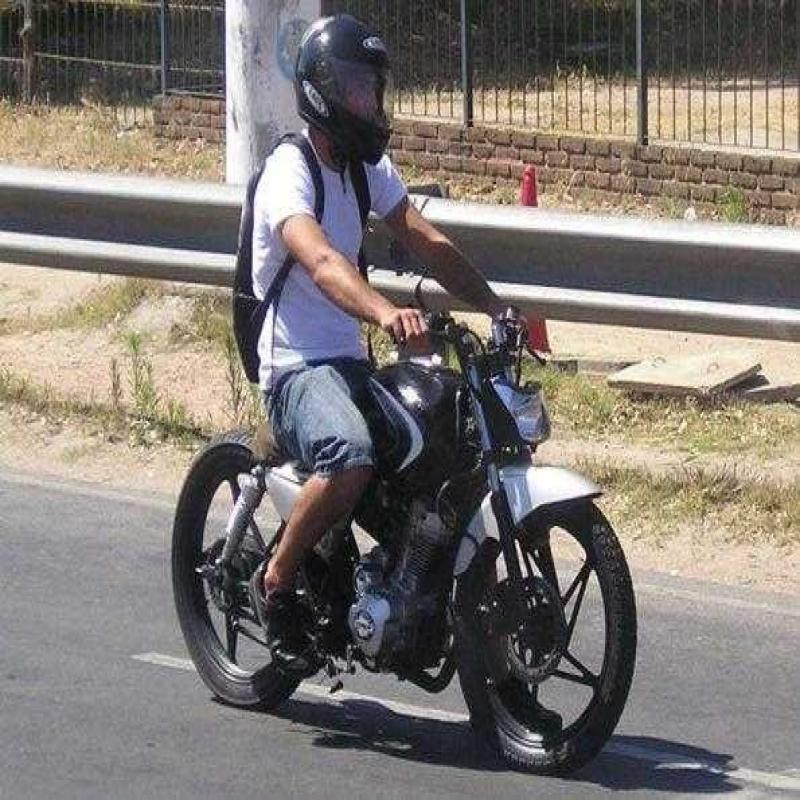bike: (160, 298, 658, 757)
